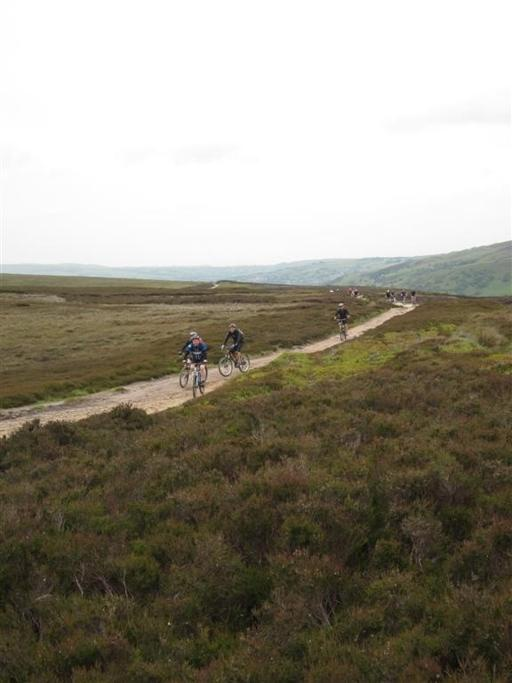non-vehicle: (218, 343, 250, 376), (178, 352, 209, 386), (187, 360, 208, 398), (335, 317, 349, 341)
